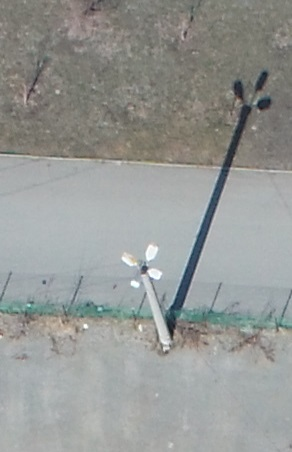opora: (121, 236, 204, 357)
